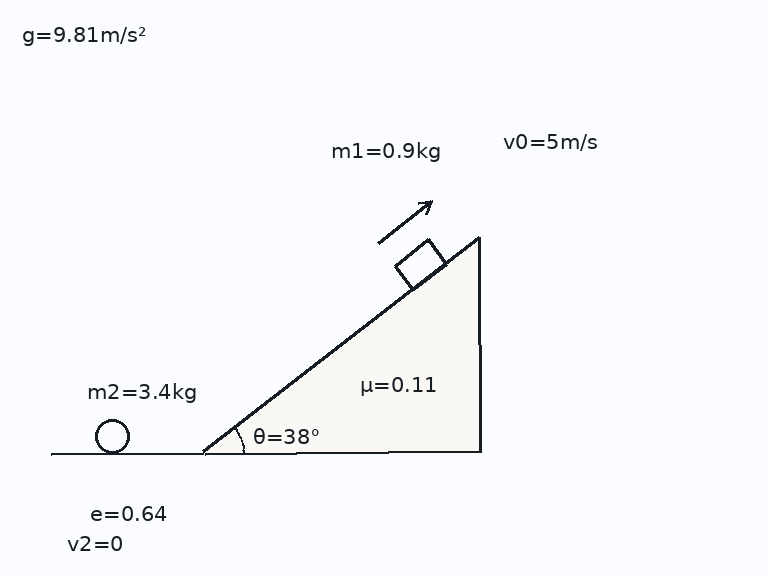ball: (93, 417, 131, 455)
block: (392, 238, 448, 292)
ramp: (202, 236, 481, 455)
